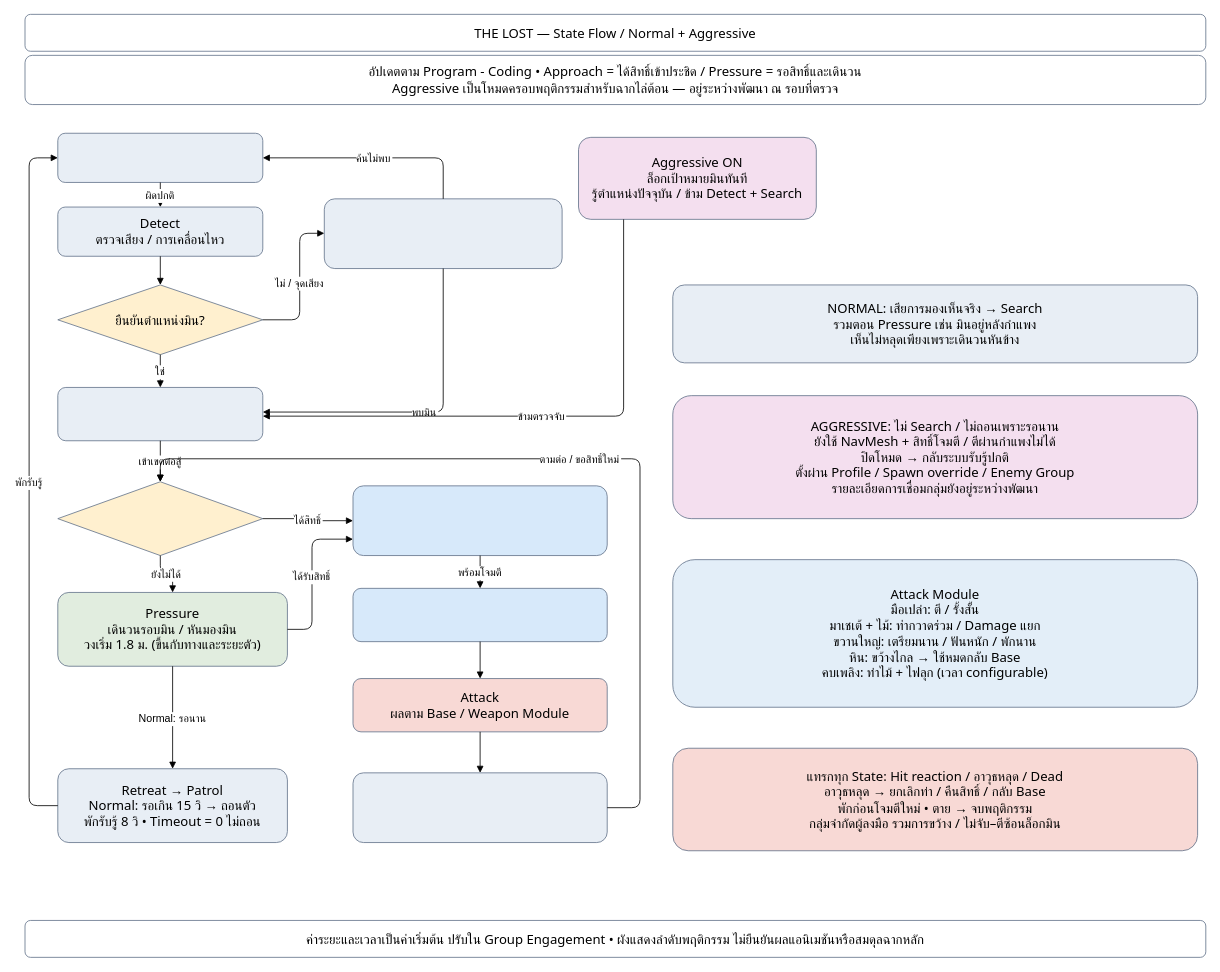
Image size: 1220x972. Some labels were removed from this diagram. Here are the shapes that lost their labels. From the top down, the centre of each, then its label:
point (160, 157): Idle / Patrol เดินวน / พักตามเส้นทาง
point (442, 233): Search ตรวจจุดเสียง / ตำแหน่งล่าสุด ค้นไม่พบ → กลับ Patrol
point (160, 414): Chase ไล่ตามเข้าเขตต่อสู้
point (160, 518): ได้รับสิทธิ์โจมตี?
point (479, 520): Approach ได้สิทธิ์แล้ว → เข้าระยะ Module ต้องมีทาง / ระยะ / แนวโจมตีถูกต้อง
point (479, 615): Preparation ท่าเตือนตามอาวุธ
point (479, 807): Recovery พัก / คืนสิทธิ์ตามวงจรโจมตี ประเมินเป้าหมายและสิทธิ์ใหม่
